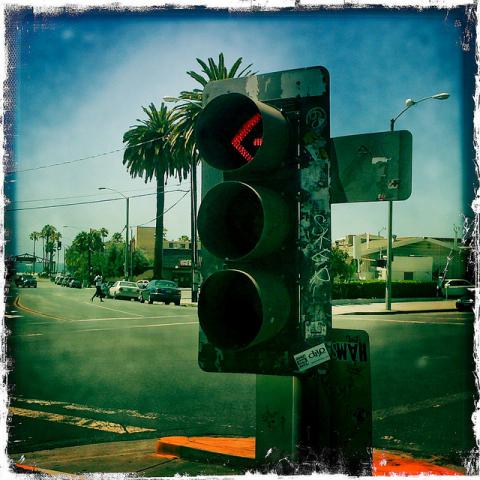car: (140, 280, 182, 306), (442, 277, 477, 297), (107, 281, 140, 302), (456, 290, 476, 311), (67, 279, 82, 289), (136, 280, 150, 288), (66, 277, 76, 287), (62, 277, 69, 287), (56, 277, 64, 285)
truck: (15, 275, 37, 288), (66, 278, 78, 288)
